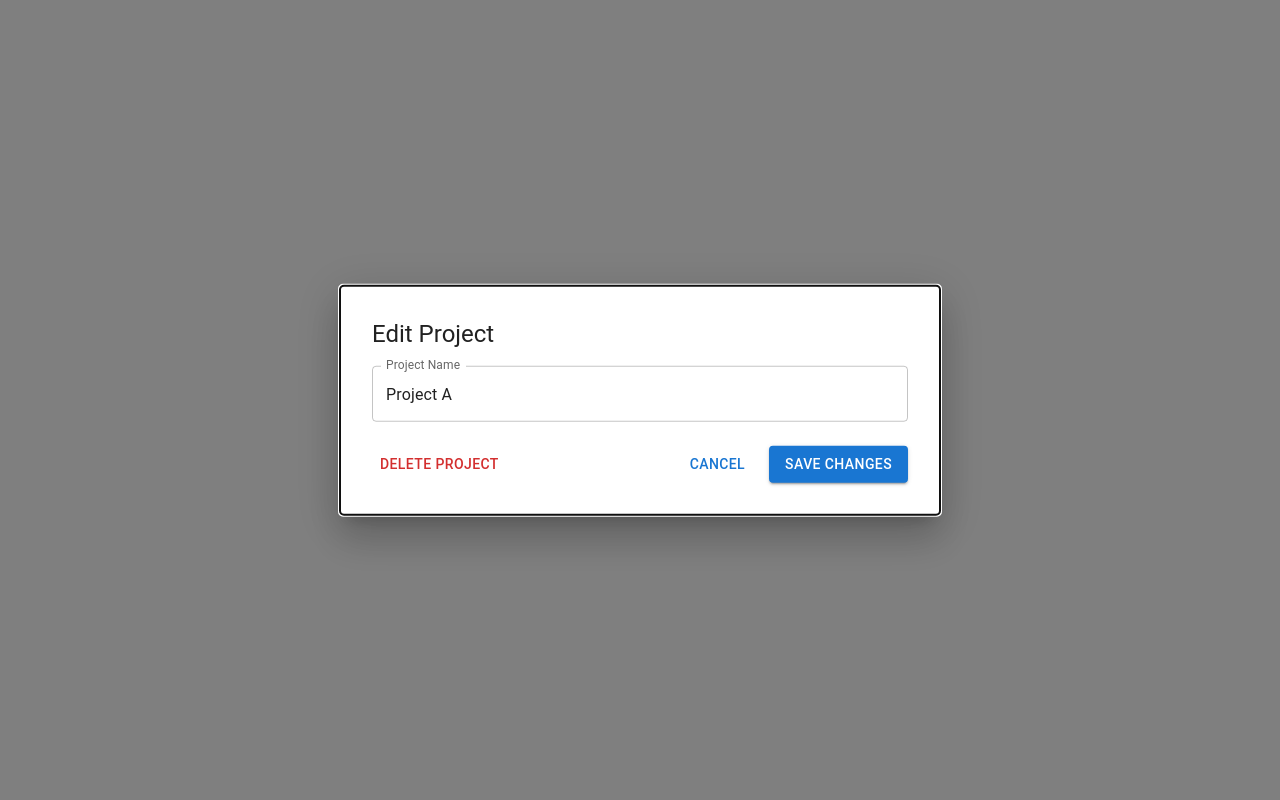
Test: ProjectEditModal › should open delete confirmation dialog when delete is clicked
Click the button "Delete Project" at (439, 464), box 372,446 -> 507,482
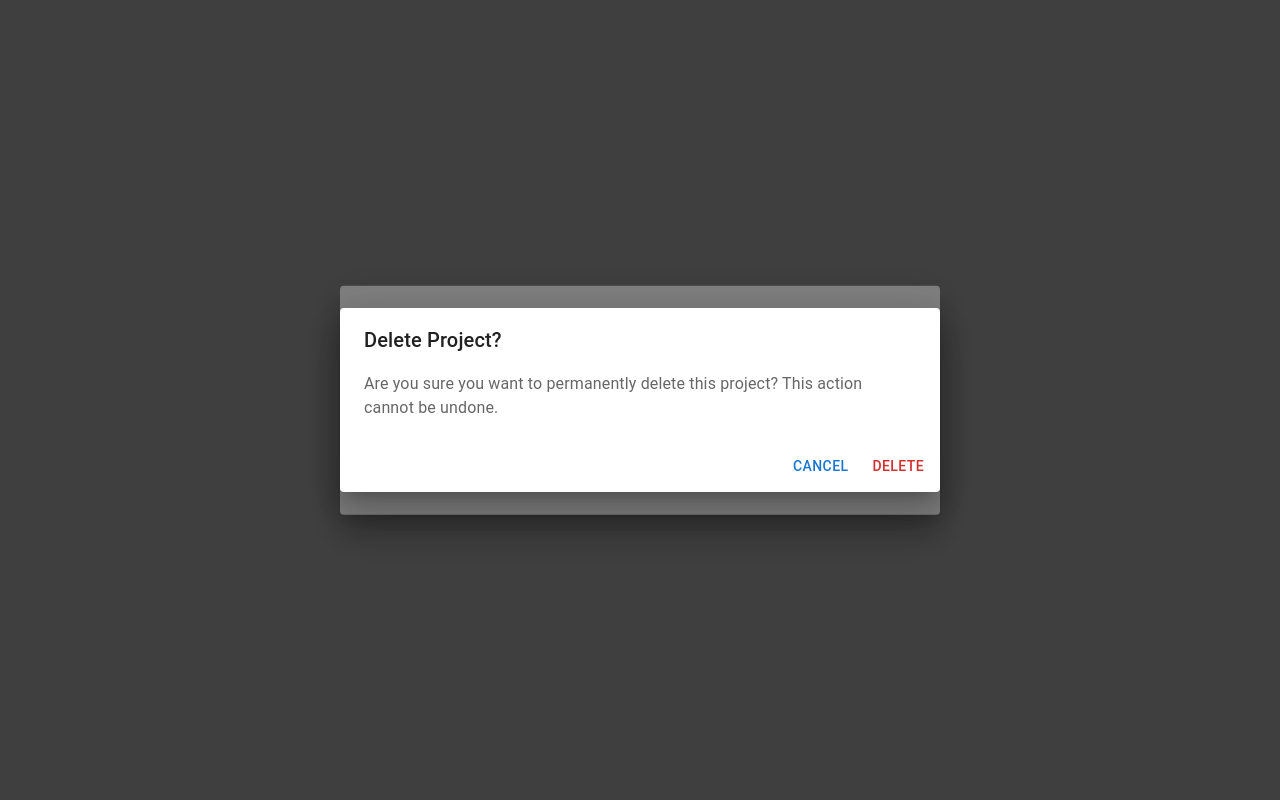
Expected: the heading "Delete Project?" is shown, 364,328 -> 502,352
